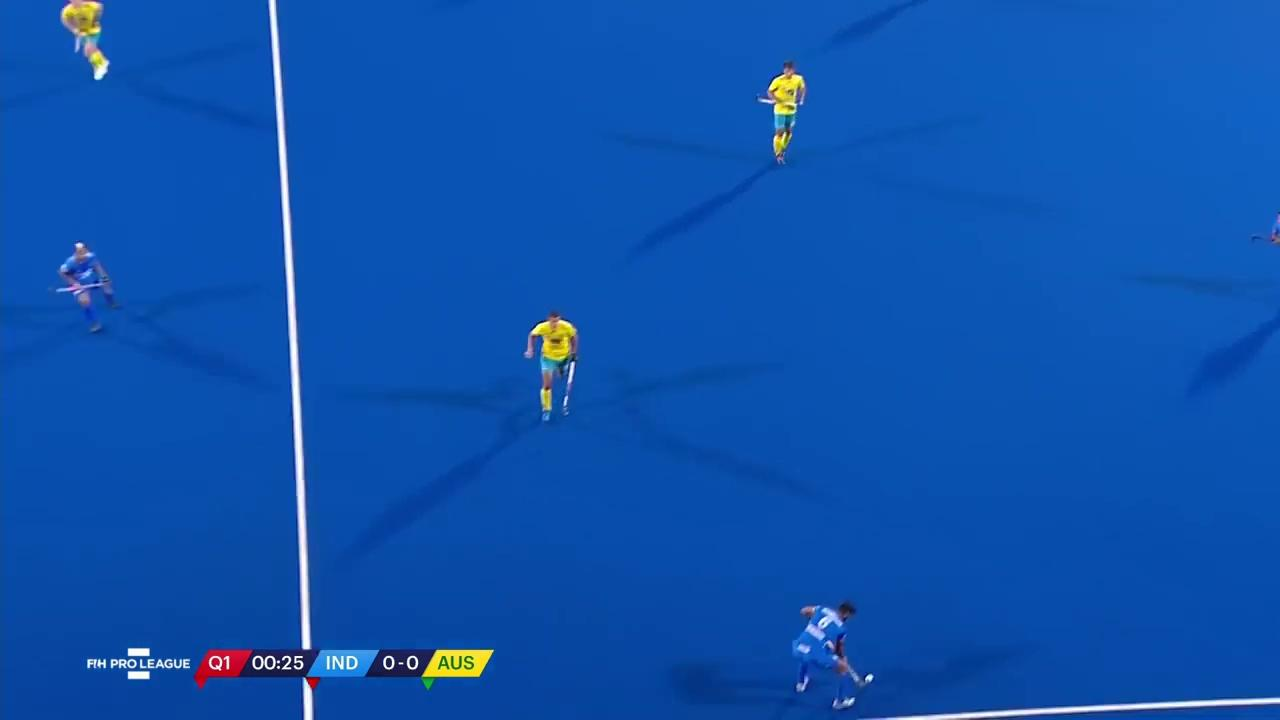ball: (849, 665, 878, 691)
